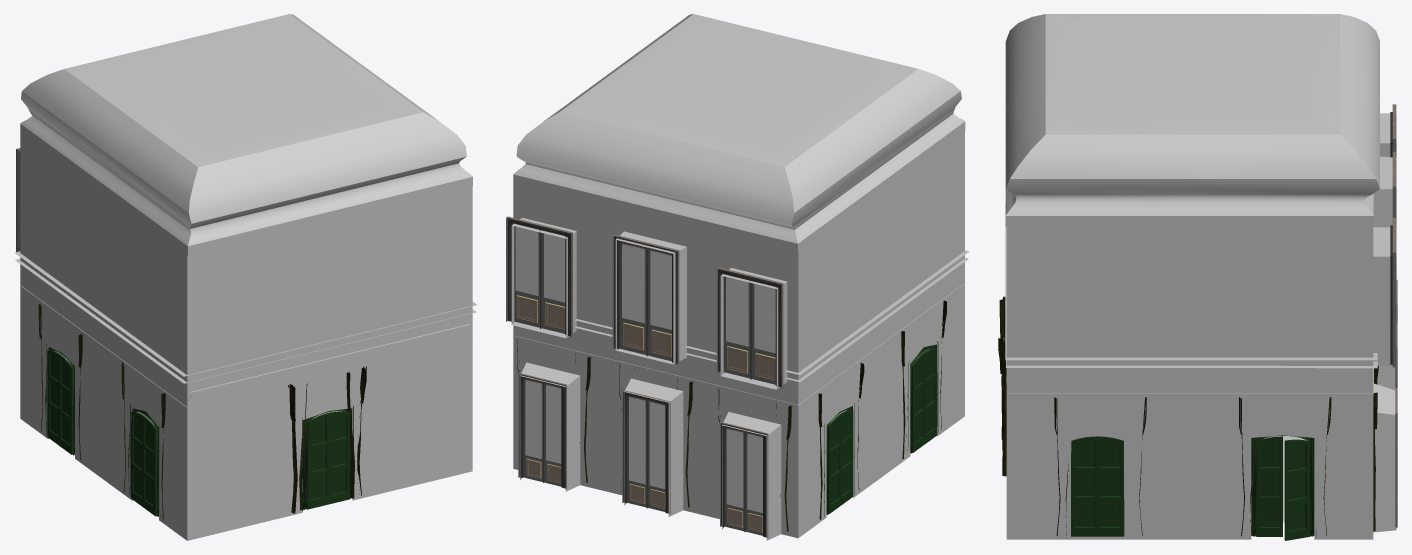
The model's file is Saló_vigatà.fbx.
The picture shows the model from 3 angles, left to right: view 1: azimuth 30°, elevation 25°; view 2: azimuth 150°, elevation 25°; view 3: azimuth 270°, elevation 25°; orthographic projection. The views are drawn at different scales.
Parts seen in each view (by area): view 1: Salo Vigata.002, SVigata_sostre, Plataforma_superior, Motllura_superior, Porta_fusta_PD_001.009, Porta_fusta_PE_001.004, Cortina_1.024, Porta_fusta_PE_001.008, Porta_fusta_PE_001.007, Porta_fusta_PD_001.004, Porta_fusta_PD_001.008, Porta_fusta_Marc_001.004 (+2 smaller); view 2: Salo Vigata.002, SVigata_sostre, PortaVidriera_001.011, PortaVidriera_001.012, PortaVidriera_001.010, PortaVidriera_001.008, PortaVidriera_001.007, PortaVidriera_001.009, Plataforma_superior, Porta_fusta_PD_001.008, Porta_fusta_PD_001.004, Porta_fusta_PE_001.008 (+4 smaller); view 3: Salo Vigata.002, SVigata_sostre, Plataforma_superior, Porta_fusta_PE_001.006, Porta_fusta_PD_001.007, Porta_fusta_PD_001.001, Porta_fusta_PE_001.001, Porta_fusta_Marc_001.001, Cortina_1.024, PortaVidriera_001.010, Cortina_1.023, Cortina_1.022 (+1 smaller).
Boxes of the visible parts, bbox=[...] form: Salo Vigata.002: bbox=[20, 132, 472, 540]; SVigata_sostre: bbox=[20, 14, 472, 255]; Plataforma_superior: bbox=[14, 251, 477, 383]; Motllura_superior: bbox=[190, 324, 470, 399]; Porta_fusta_PD_001.009: bbox=[307, 413, 328, 509]; Porta_fusta_PE_001.004: bbox=[328, 411, 350, 504]; Cortina_1.024: bbox=[288, 366, 366, 513]; Porta_fusta_PE_001.008: bbox=[59, 355, 73, 454]; Porta_fusta_PE_001.007: bbox=[143, 416, 156, 516]; Porta_fusta_PD_001.004: bbox=[131, 411, 144, 506]; Porta_fusta_PD_001.008: bbox=[47, 350, 60, 445]; Porta_fusta_Marc_001.004: bbox=[302, 405, 354, 509]; Salo Vigata.002: bbox=[511, 130, 964, 540]; SVigata_sostre: bbox=[513, 14, 965, 253]; PortaVidriera_001.011: bbox=[612, 234, 679, 364]; PortaVidriera_001.012: bbox=[716, 267, 783, 388]; PortaVidriera_001.010: bbox=[506, 216, 572, 337]; PortaVidriera_001.008: bbox=[622, 390, 670, 514]; PortaVidriera_001.007: bbox=[720, 422, 768, 538]; PortaVidriera_001.009: bbox=[518, 373, 566, 489]; Plataforma_superior: bbox=[575, 250, 969, 382]; Porta_fusta_PD_001.008: bbox=[827, 414, 841, 514]; Porta_fusta_PD_001.004: bbox=[911, 353, 925, 452]; Porta_fusta_PE_001.008: bbox=[840, 409, 853, 504]; Salo Vigata.002: bbox=[1006, 113, 1396, 539]; SVigata_sostre: bbox=[1005, 14, 1379, 226]; Plataforma_superior: bbox=[1005, 203, 1377, 368]; Porta_fusta_PE_001.006: bbox=[1097, 436, 1124, 536]; Porta_fusta_PD_001.007: bbox=[1071, 436, 1097, 536]; Porta_fusta_PD_001.001: bbox=[1256, 436, 1282, 536]; Porta_fusta_PE_001.001: bbox=[1284, 439, 1309, 540]; Porta_fusta_Marc_001.001: bbox=[1251, 435, 1316, 536]; Cortina_1.024: bbox=[998, 296, 1006, 476]; PortaVidriera_001.010: bbox=[1390, 217, 1396, 367]; Cortina_1.023: bbox=[1238, 397, 1331, 536]; Cortina_1.022: bbox=[1054, 397, 1146, 535].
Bounding box in the file's own units: 1131 × 1282 × 1194.
